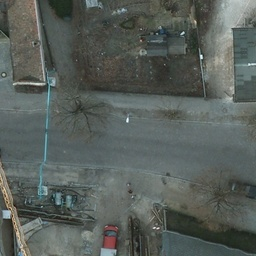car: (101, 223, 119, 251)
